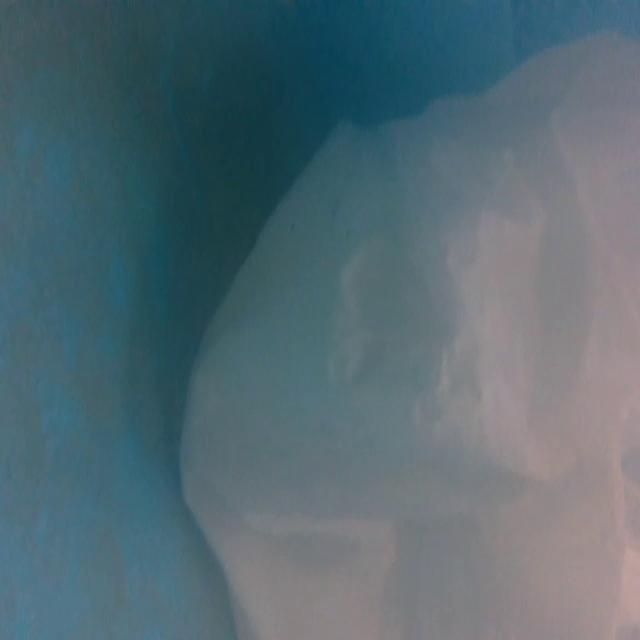plastic bags: (169, 29, 640, 639)
